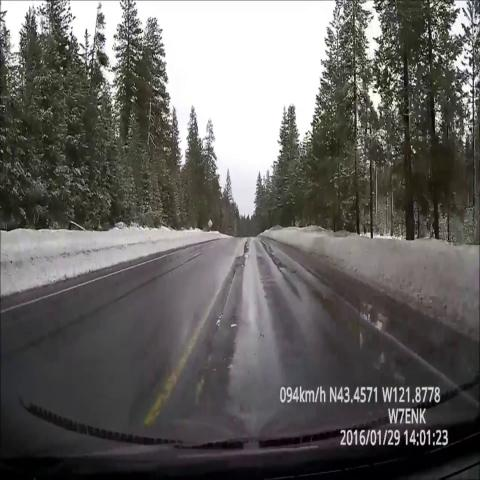pothole: (235, 235, 256, 283), (215, 302, 230, 338)
